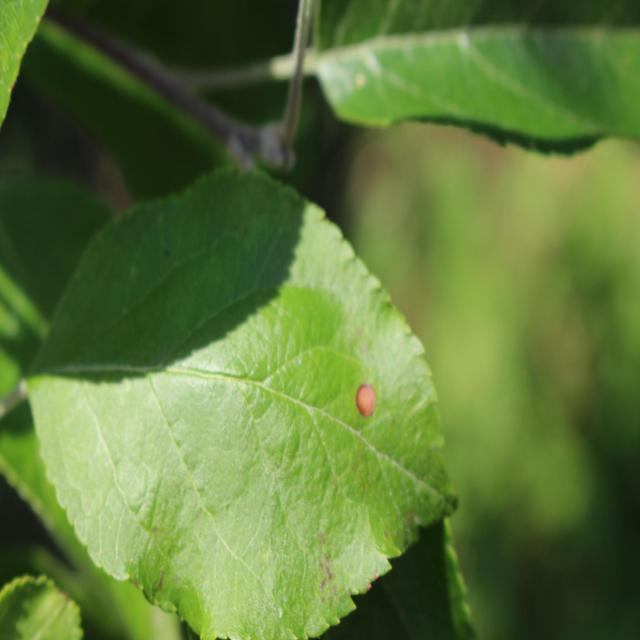Black Rot: (356, 368, 379, 428)
